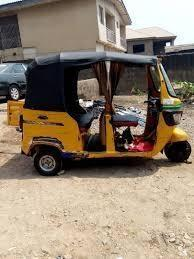keke: (17, 47, 194, 174)
